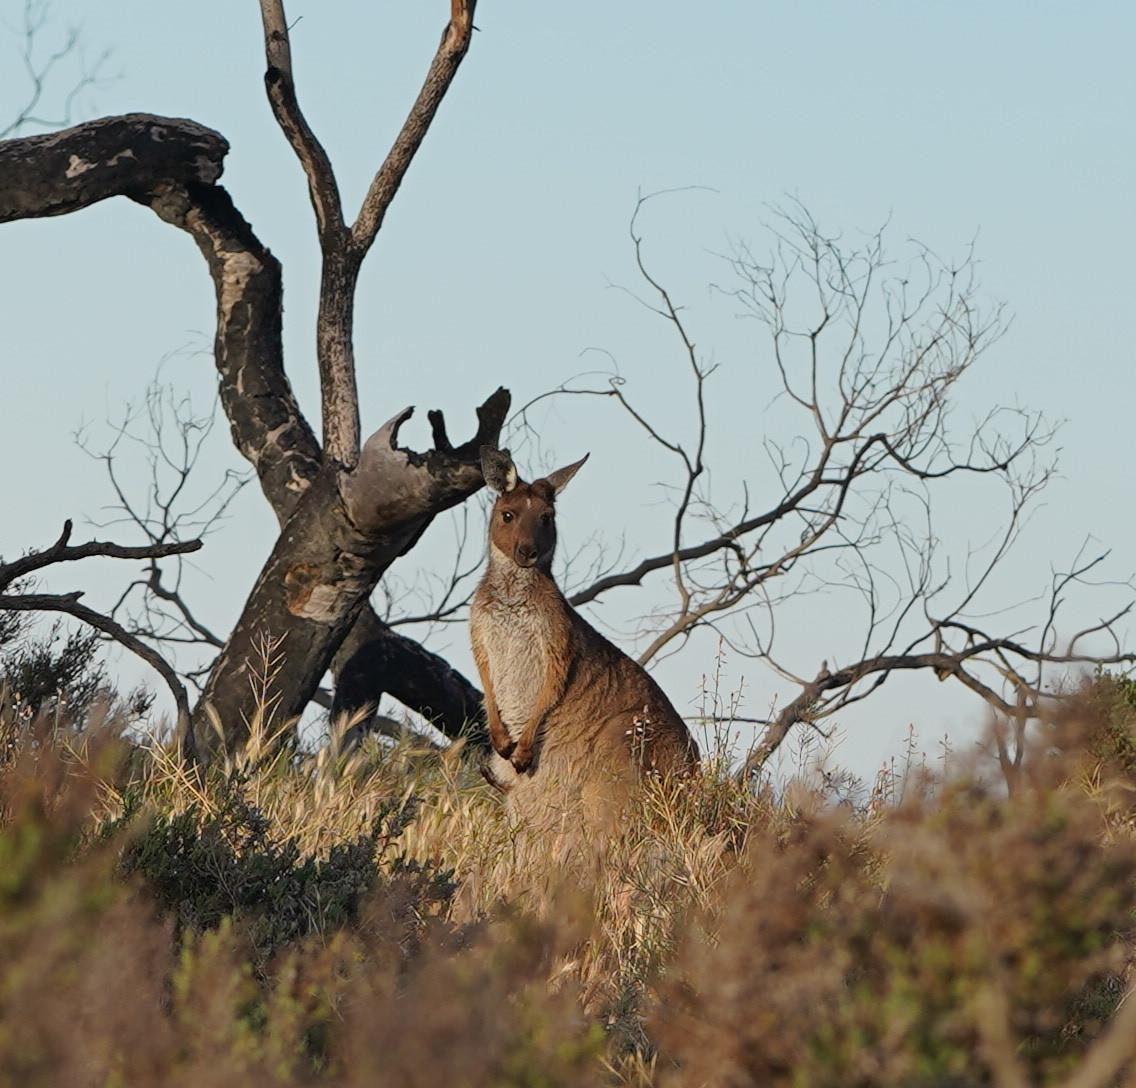Western grey kangaroo: (461, 449, 708, 864)
